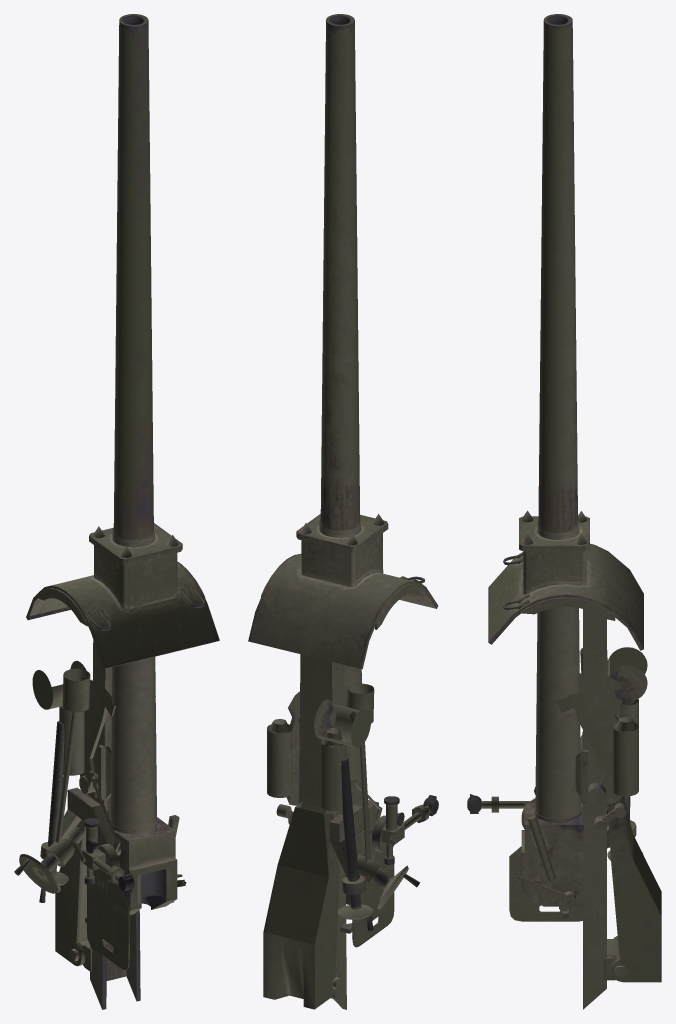
File: Gun_03.glb
3 renders of one model, left to right at view 1: azimuth 30°, elevation 25°; view 2: azimuth 150°, elevation 25°; view 3: azimuth 270°, elevation 25°, orthographic.
Visible parts, largest first — view 1: set_0_group_0; view 2: set_0_group_0; view 3: set_0_group_0.
Boxes of the visible parts, box(x1,y1,x2,y2) form: set_0_group_0: box(14, 14, 219, 1009); set_0_group_0: box(248, 14, 438, 1009); set_0_group_0: box(467, 14, 661, 1009).
Size of the model in its own units: 0.7204 by 4.5 by 0.8089.
Materials: 1 (1 with a texture image).
